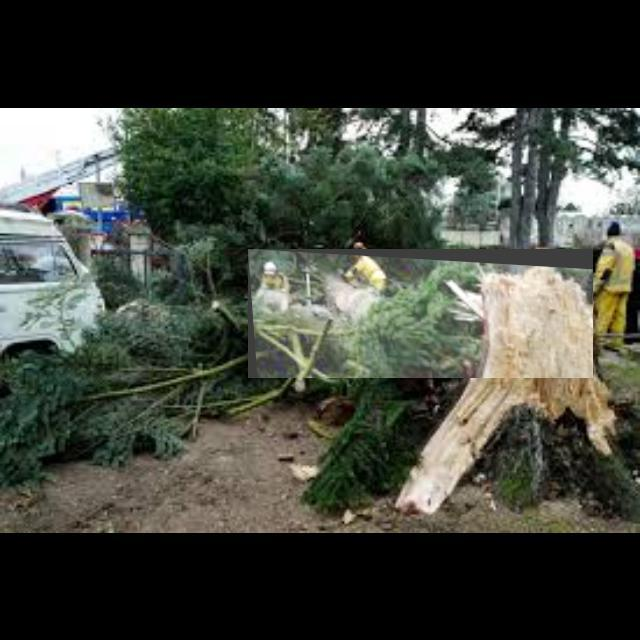fallen_tree: (248, 249, 594, 379)
